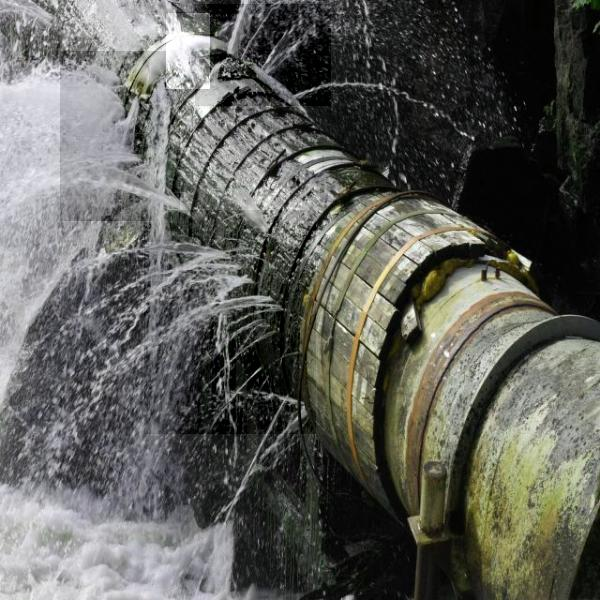leak: (144, 210, 316, 434), (60, 51, 180, 221), (195, 4, 331, 106), (166, 13, 210, 89)
